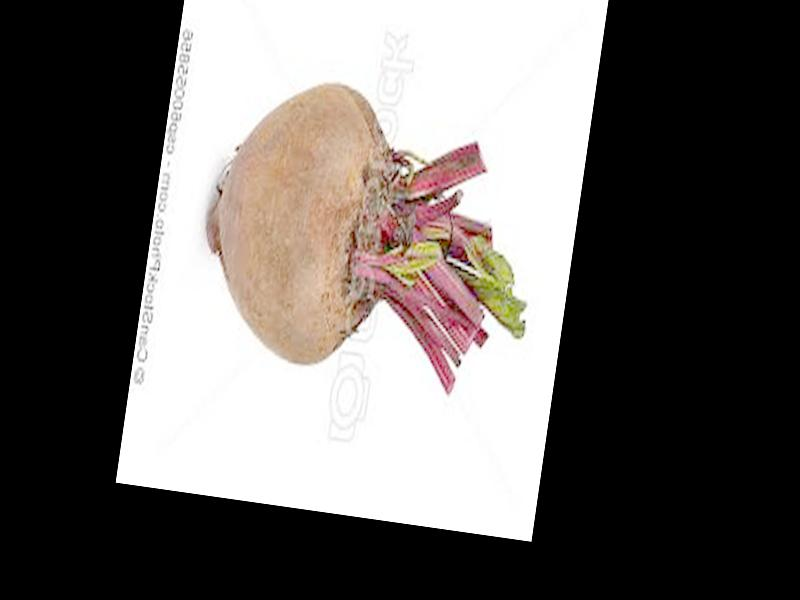Beet: (188, 65, 555, 403)
